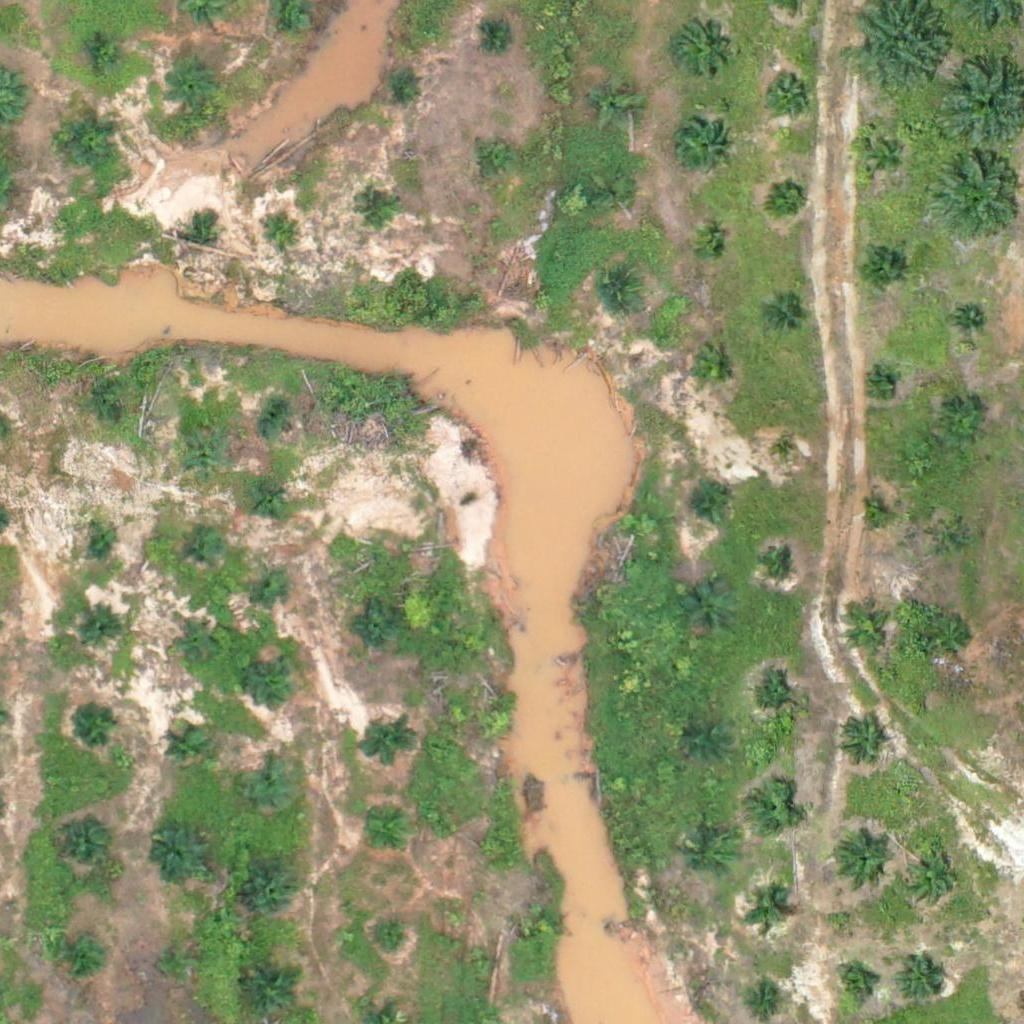Kelapa_Sawit: (933, 151, 1021, 239), (144, 821, 207, 884), (241, 757, 304, 820), (899, 846, 962, 909), (672, 117, 734, 180), (833, 828, 895, 891), (63, 112, 125, 174), (248, 864, 298, 915), (247, 967, 297, 1018), (929, 611, 979, 662), (675, 20, 725, 71), (842, 605, 892, 656), (688, 344, 738, 395), (591, 77, 641, 128), (60, 818, 110, 869), (72, 699, 122, 750), (249, 655, 299, 705), (167, 61, 217, 111), (750, 676, 800, 726), (748, 785, 798, 835), (837, 718, 887, 768), (897, 954, 947, 1004), (362, 719, 412, 769), (360, 809, 410, 859), (937, 400, 987, 450), (856, 240, 906, 290), (684, 584, 734, 634), (353, 604, 403, 654), (859, 131, 909, 181), (764, 67, 814, 117), (686, 835, 736, 885), (747, 890, 785, 928), (748, 981, 786, 1019), (835, 964, 873, 1002), (461, 941, 499, 979), (471, 828, 509, 866), (477, 703, 515, 741), (688, 485, 726, 523), (86, 32, 124, 70), (87, 521, 125, 559), (255, 563, 293, 601), (255, 476, 293, 514), (254, 401, 292, 439), (63, 937, 101, 975), (525, 903, 562, 941), (932, 522, 970, 559), (691, 229, 729, 266), (688, 723, 725, 761), (481, 17, 519, 54), (357, 192, 394, 230), (598, 175, 636, 212), (771, 177, 808, 215), (261, 216, 298, 254), (83, 605, 121, 642), (98, 401, 135, 439), (183, 438, 220, 476), (188, 530, 225, 568), (178, 626, 215, 664), (159, 943, 196, 981), (371, 922, 408, 959), (767, 301, 804, 338), (599, 273, 636, 310), (379, 65, 416, 102), (476, 143, 513, 180), (169, 730, 206, 767), (184, 222, 209, 248), (868, 371, 893, 396), (861, 501, 886, 526), (773, 440, 798, 465), (767, 552, 792, 577), (956, 307, 980, 332)
